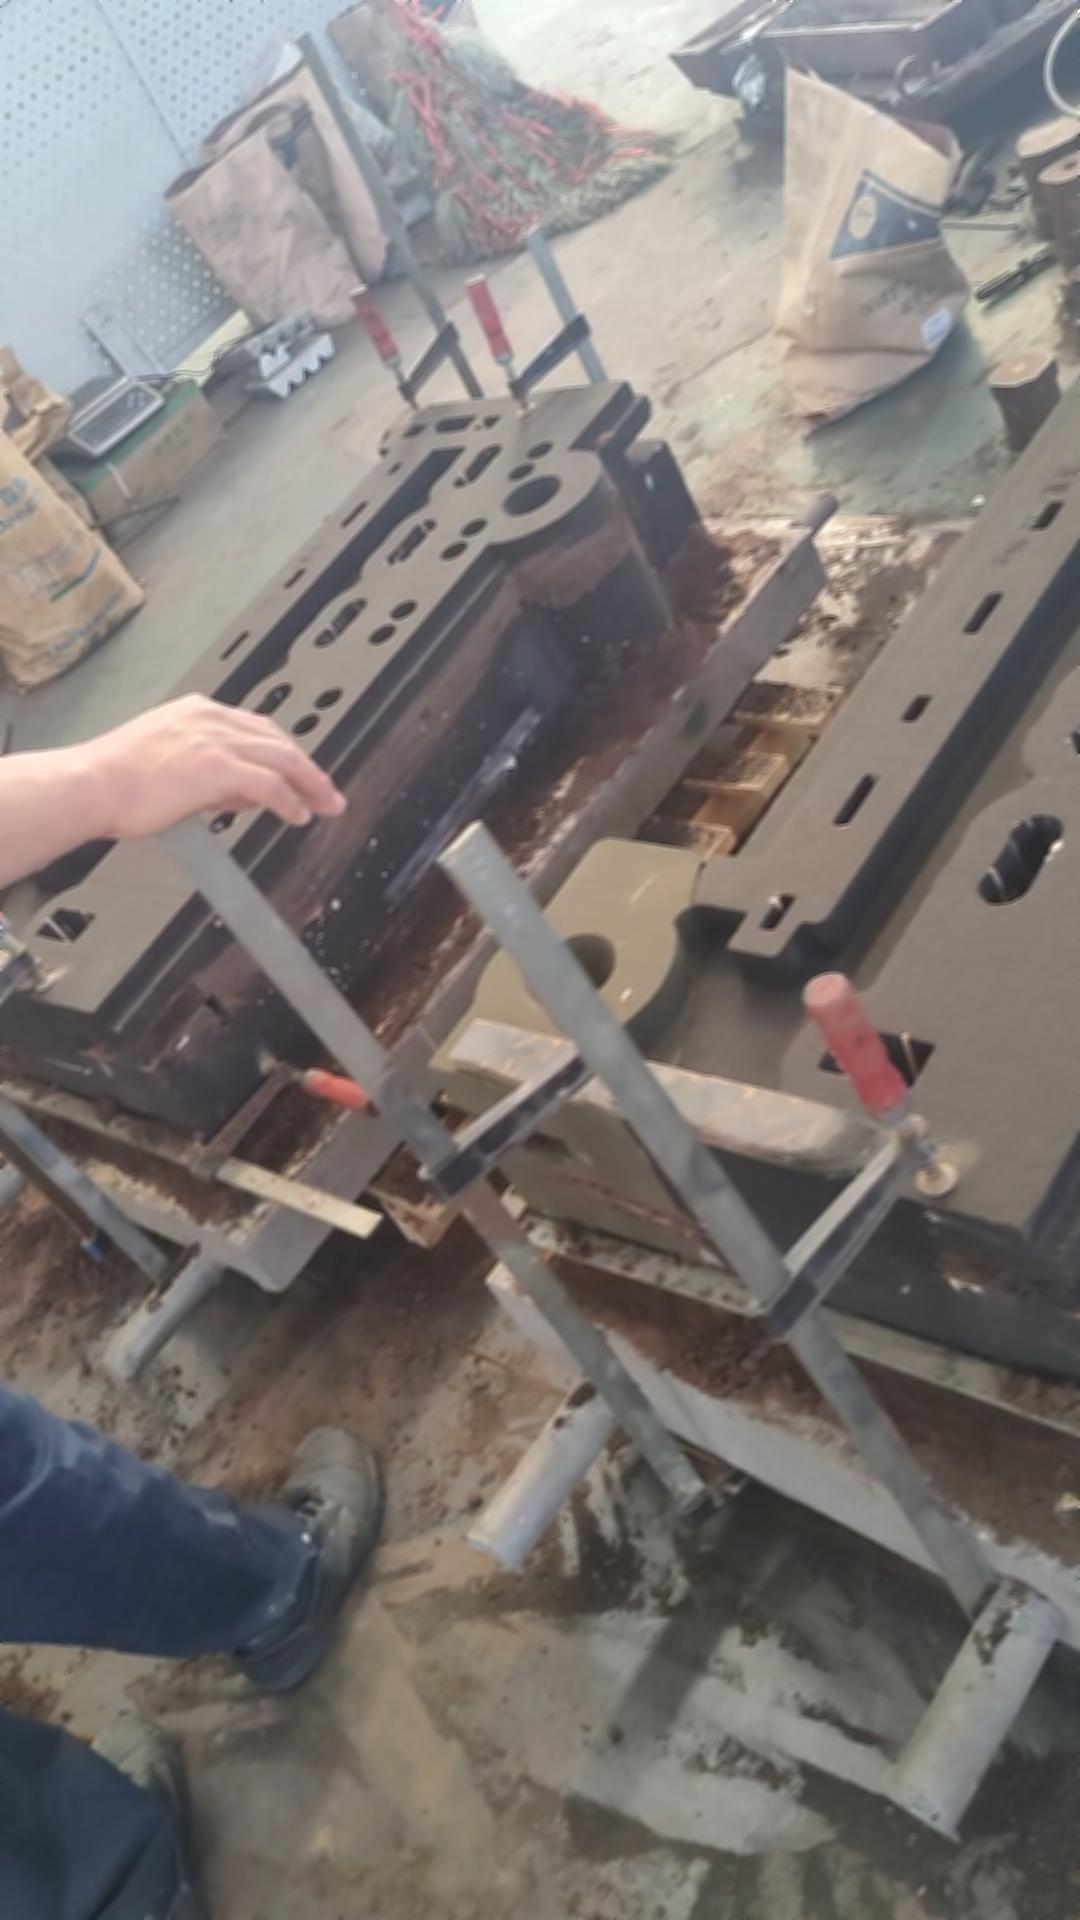pouring hole: (529, 932, 615, 1001), (501, 473, 560, 514)
